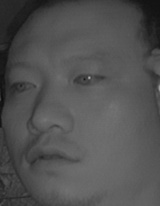eye: (71, 68, 107, 90), (9, 76, 38, 97)
mouth: (25, 142, 85, 175)
